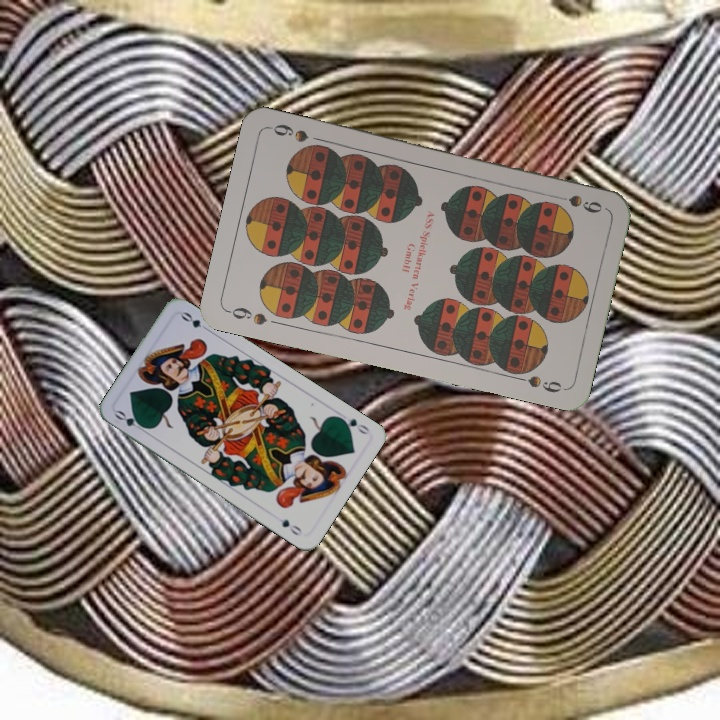GO: (111, 406, 150, 435), (334, 412, 372, 437)
S9: (548, 191, 605, 216), (223, 303, 270, 328)
